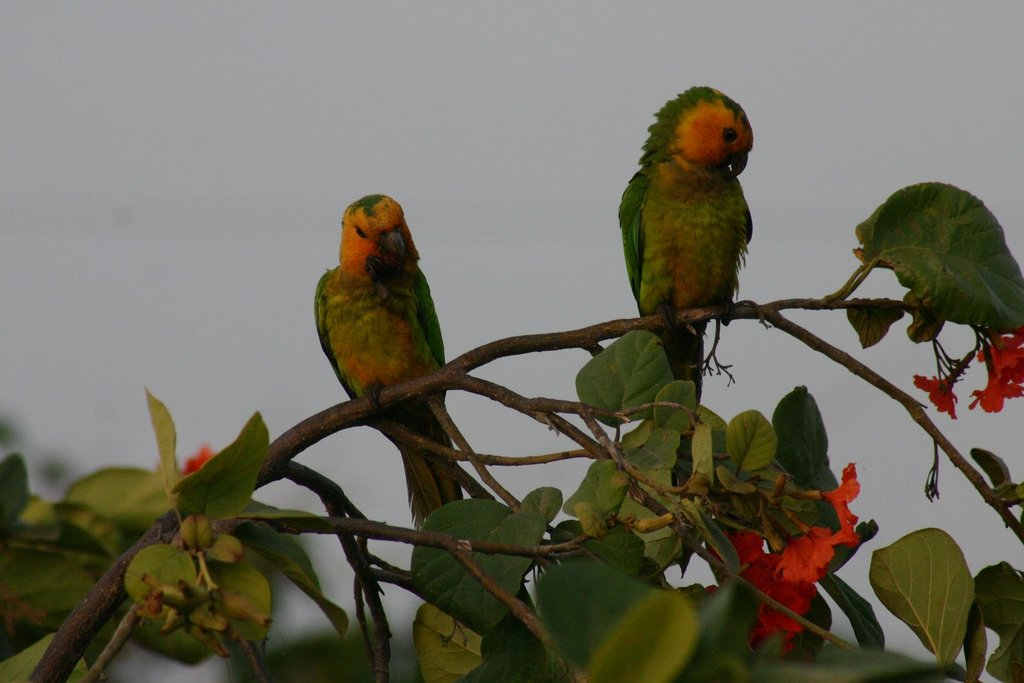Tree: (0, 180, 1024, 682)
